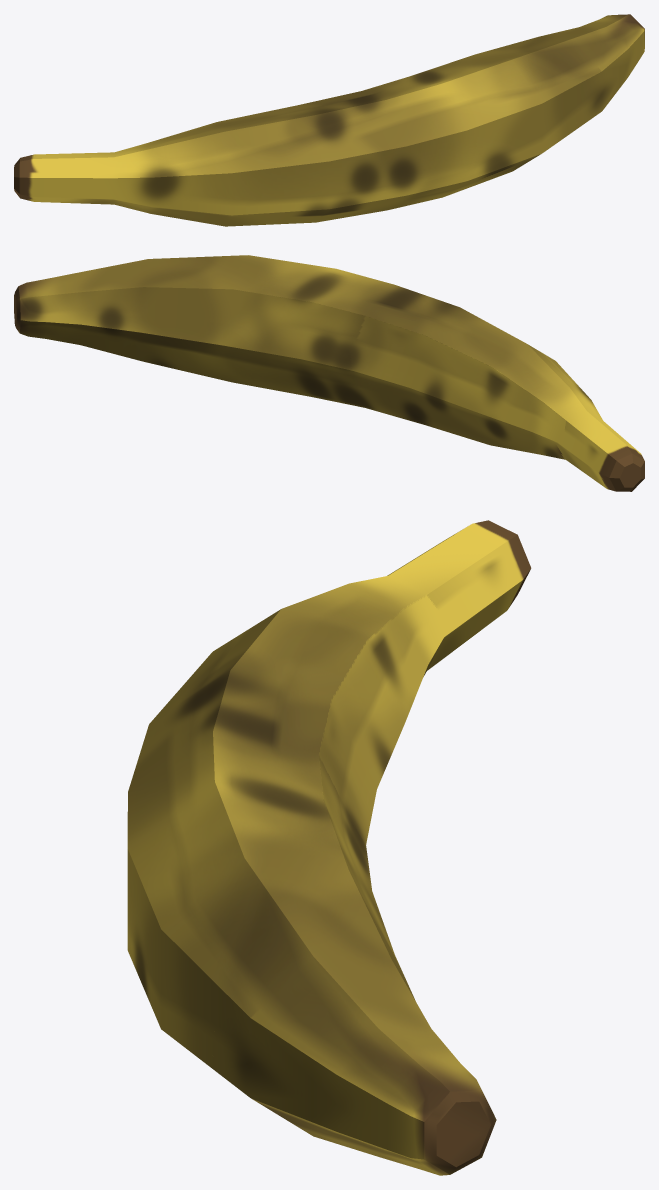
Rendered from banana.fbx.
3 renders of one model, top to bottom at view 1: azimuth 30°, elevation 25°; view 2: azimuth 150°, elevation 25°; view 3: azimuth 270°, elevation 25°, orthographic. The views are drawn at different scales.
Visible parts, largest first — view 1: banana; view 2: banana; view 3: banana.
Boxes of the visible parts, <box> form: banana: <box>14,14,644,226</box>; banana: <box>14,255,644,491</box>; banana: <box>127,520,531,1175</box>.
Bounding box in the file's own units: 163 × 28.78 × 46.16.
